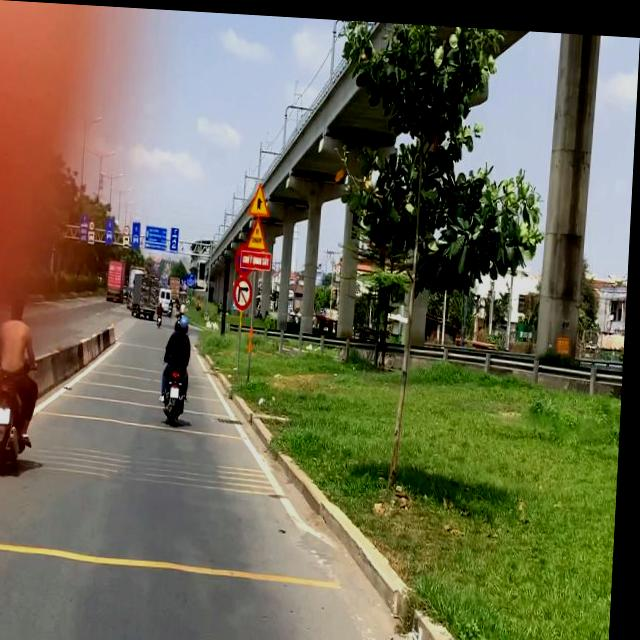Cam re phai: (236, 276, 255, 307)
Di cham: (250, 214, 272, 248)
Giao nhau voi duong khong uu tien ben phai: (250, 178, 274, 214)
